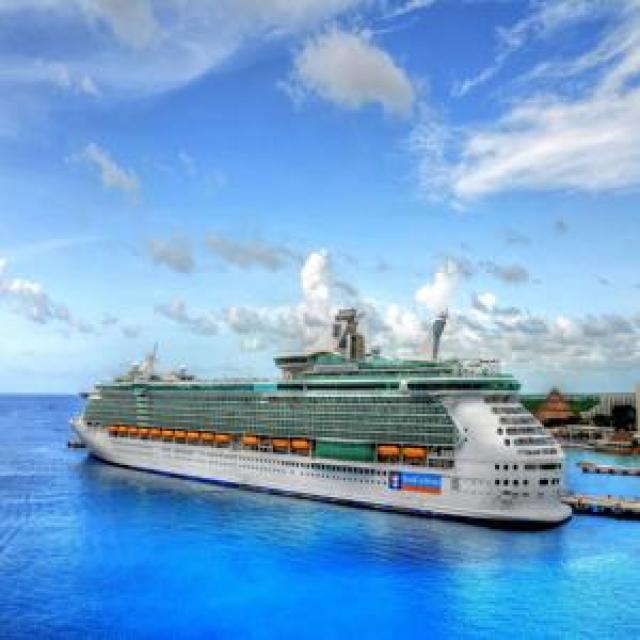passenger ship: (67, 308, 572, 534)
